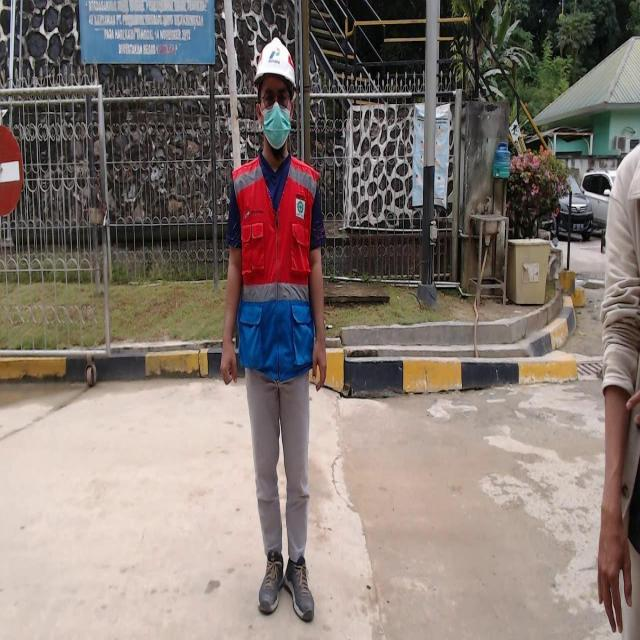helmet: (248, 33, 308, 99)
